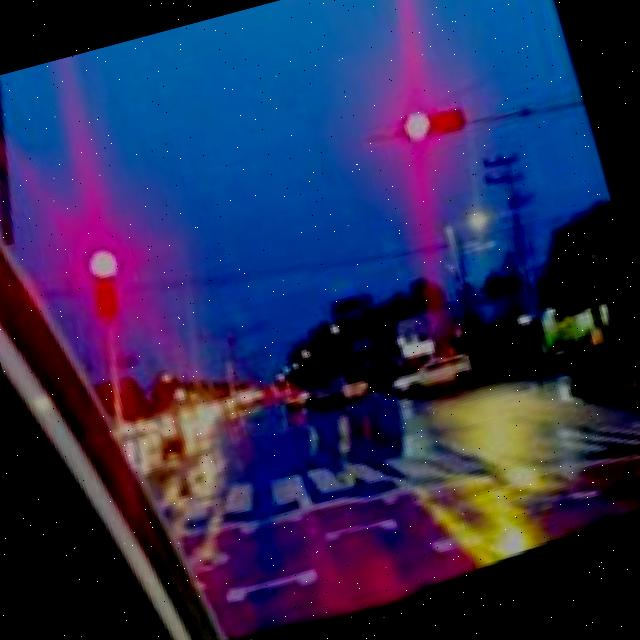red_light: (32, 210, 162, 368), (372, 55, 496, 198)
